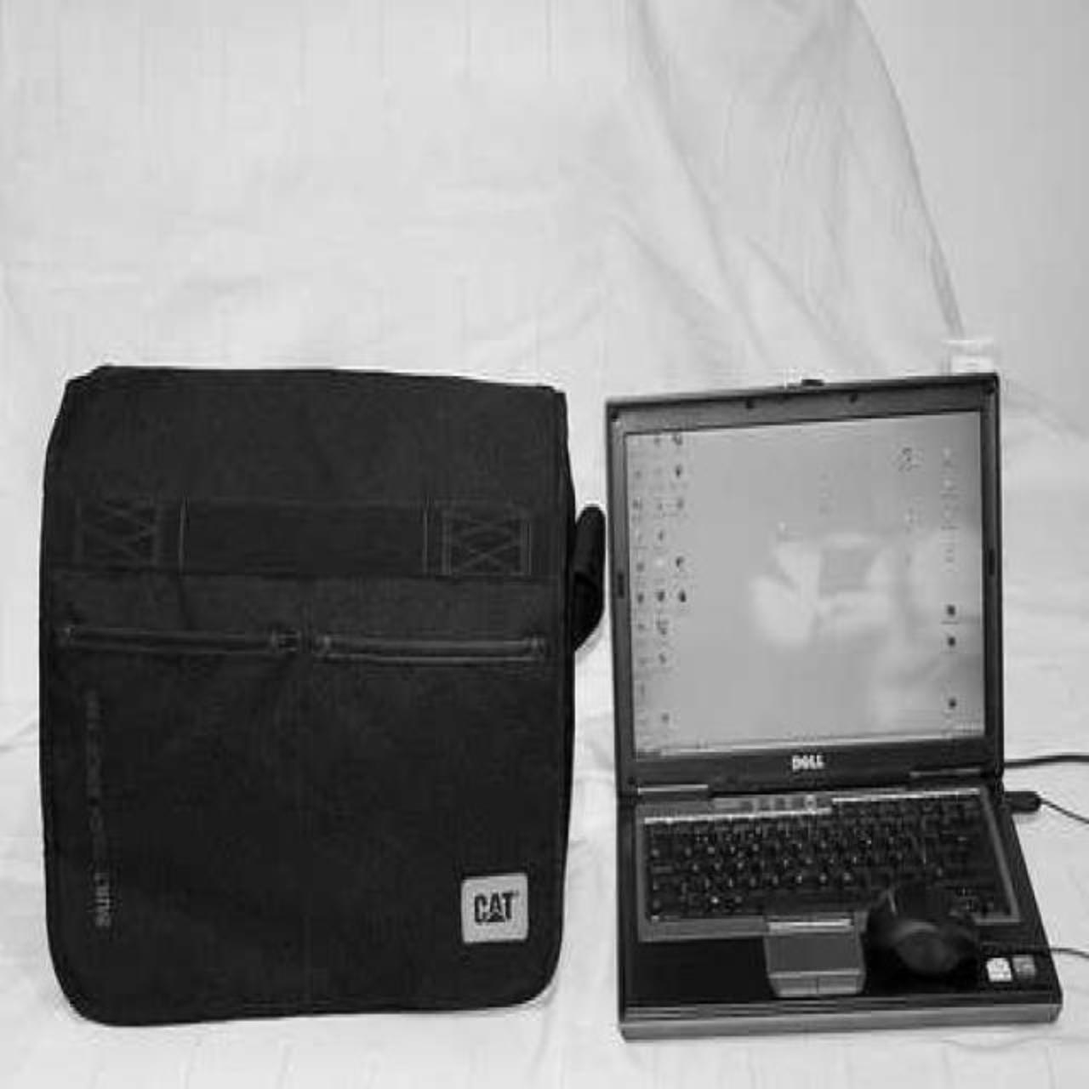laptop: (597, 380, 1057, 1008)
